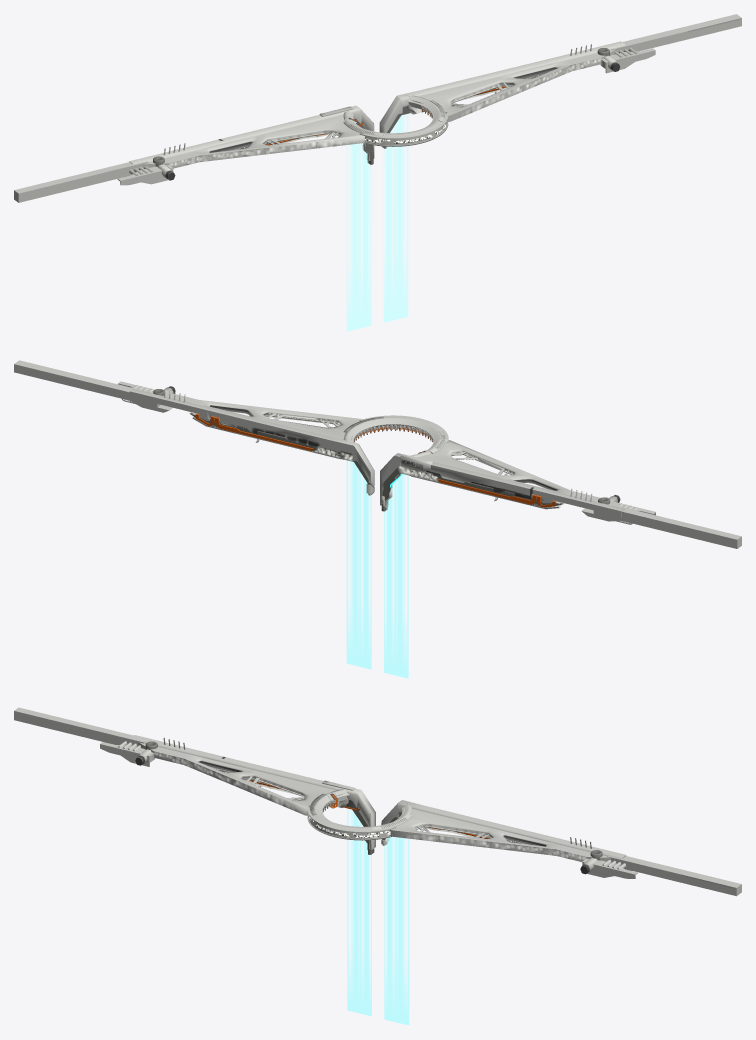
The model's file is SUP_uss_nomad_the_creator_spaceship_military_base.glb.
3 renders of one model, top to bottom at view 1: azimuth 30°, elevation 25°; view 2: azimuth 150°, elevation 25°; view 3: azimuth 330°, elevation 25°, orthographic.
Parts seen in each view (by area): view 1: SUP_uss_nomad_the_creator_spaceship_military_base; view 2: SUP_uss_nomad_the_creator_spaceship_military_base; view 3: SUP_uss_nomad_the_creator_spaceship_military_base.
Boxes of the visible parts, x1,y1,x2,y2 form: SUP_uss_nomad_the_creator_spaceship_military_base: (14,14,741,331); SUP_uss_nomad_the_creator_spaceship_military_base: (14,360,741,678); SUP_uss_nomad_the_creator_spaceship_military_base: (14,707,741,1025).
Bounding box in the file's own units: 58.5 × 17.69 × 6.48.
79 materials, 78 textured.
